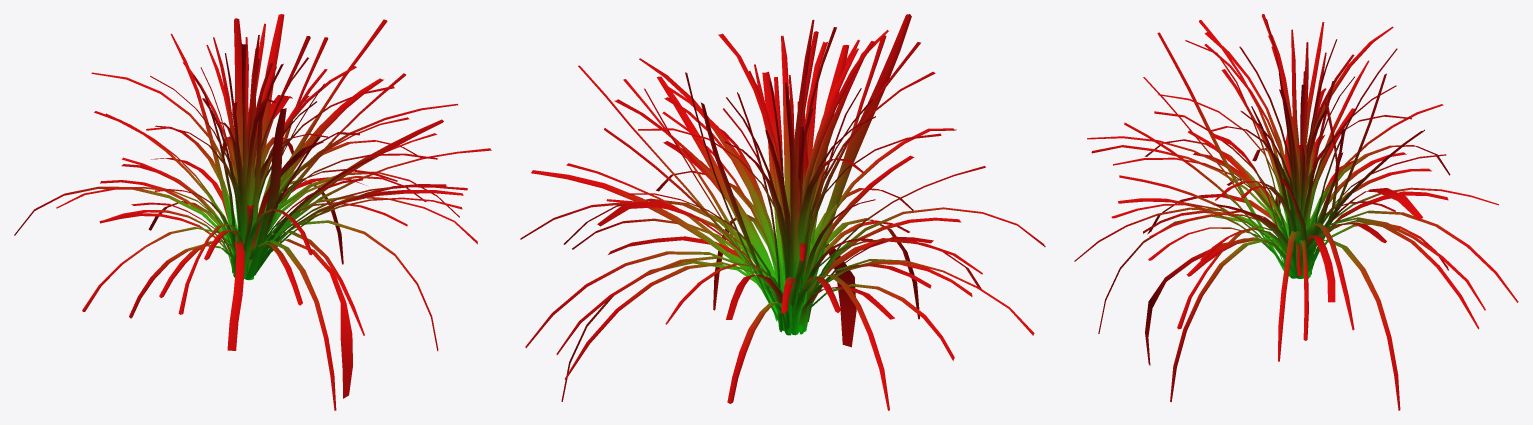
File: White Windflower_LOD1_Var5_sktlN.fbx
3 renders of one model, left to right at view 1: azimuth 30°, elevation 25°; view 2: azimuth 150°, elevation 25°; view 3: azimuth 270°, elevation 25°, orthographic. The views are drawn at different scales.
Visible parts, largest first — view 1: _debe_Var5_LOD1; view 2: _debe_Var5_LOD1; view 3: _debe_Var5_LOD1.
Part boxes in pixels (x1,y1,x2,y2): _debe_Var5_LOD1: [14, 14, 491, 410]; _debe_Var5_LOD1: [520, 14, 1045, 410]; _debe_Var5_LOD1: [1074, 14, 1518, 410].
Bounding box in the file's own units: 77.43 × 62.29 × 75.51.
